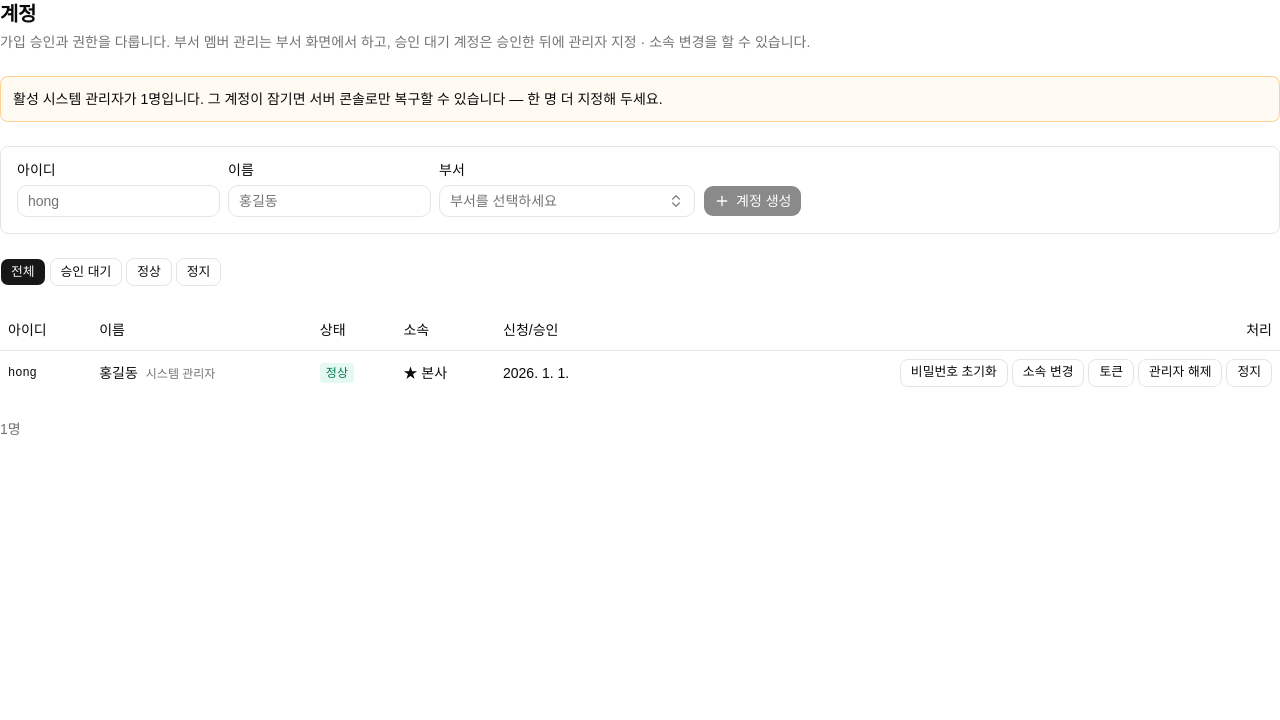
계정 관리 · 시스템 관리자 지정 › 해제는 무엇을 잃는지 말하고, 마지막 관리자는 서버가 막는다고 적는다
Check: the text "홍길동" is shown, box top-left (99, 364), bottom-right (138, 380)
Step 1. Click the button "관리자 해제" → click(1180, 372), box top-left (1138, 358), bottom-right (1222, 386)
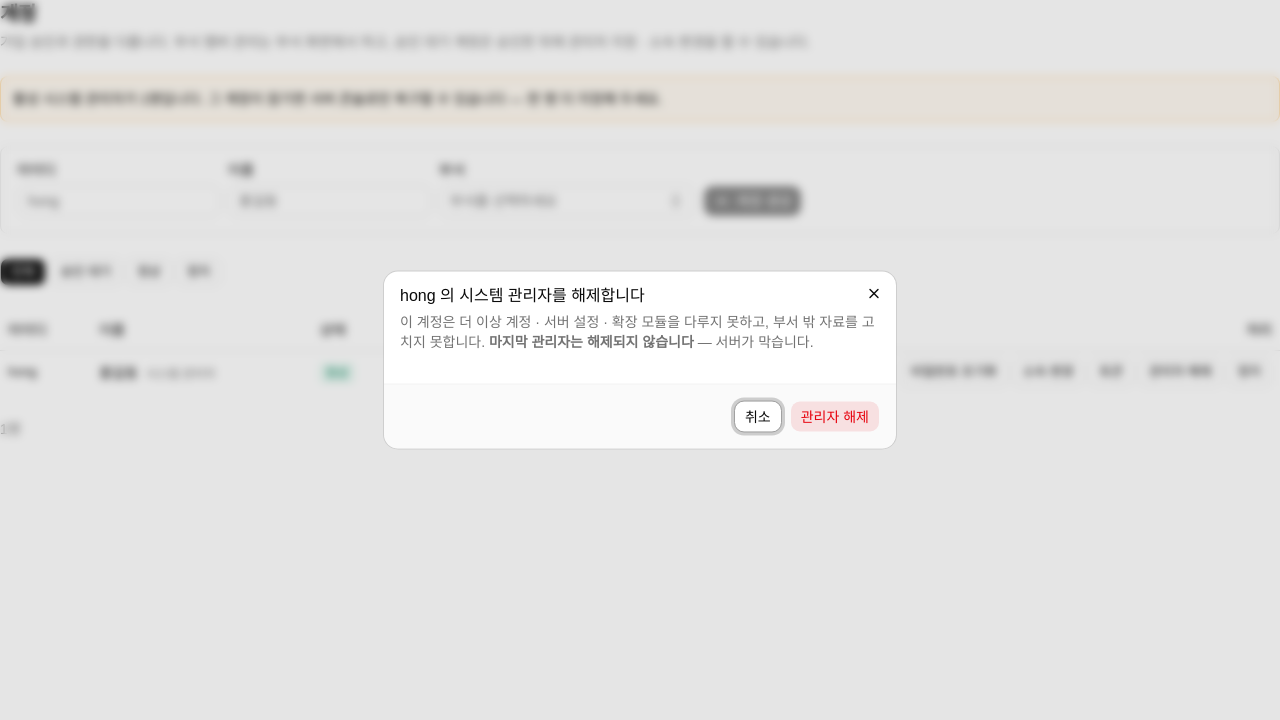
Check: the text "마지막 관리자는 해제되지 않습니다" is shown, box top-left (489, 334), bottom-right (694, 350)
